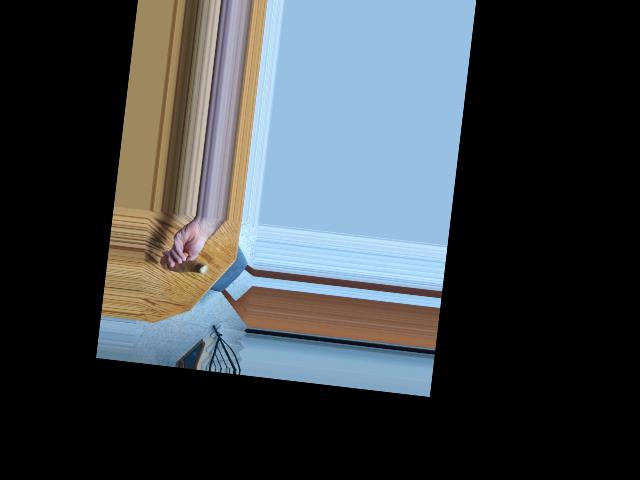sweet_potato: (158, 251, 209, 276)
